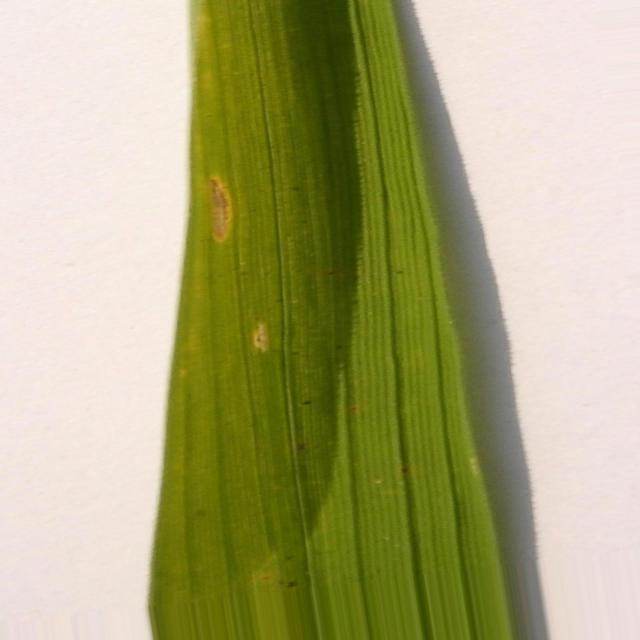Bacterial_Leaf_Blight: (209, 176, 232, 242), (252, 321, 269, 352)
